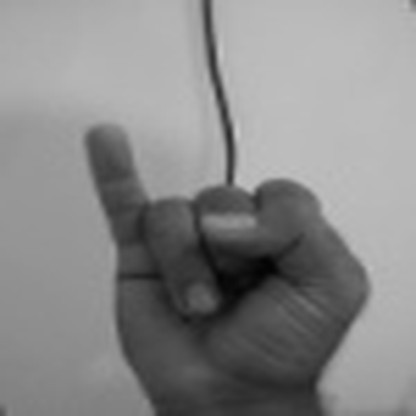i: (75, 113, 374, 407)
